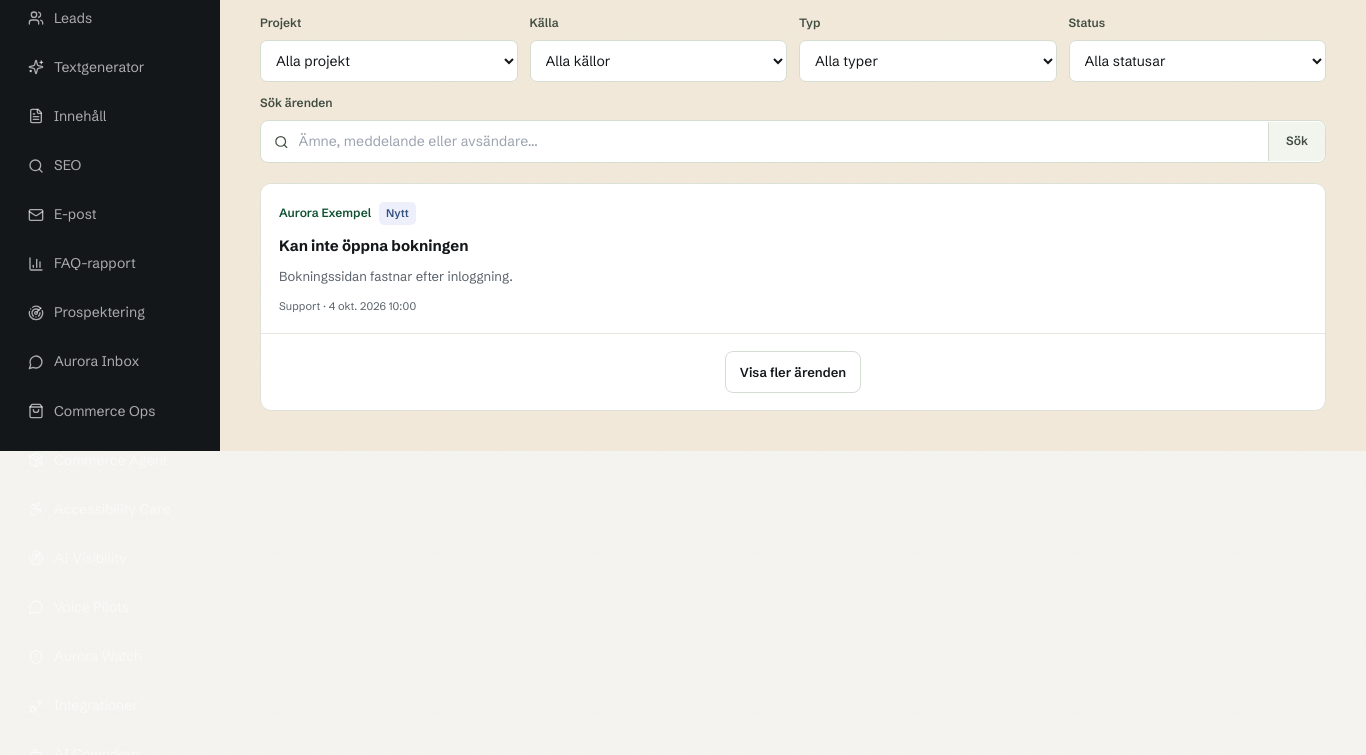
Test: central support workspace › loads the next server page without duplicating existing cases
This screenshot has width=1366, height=755.
(page scrolled)
Click the button "Visa fler ärenden" at x=793, y=372, box [725,351,861,393]
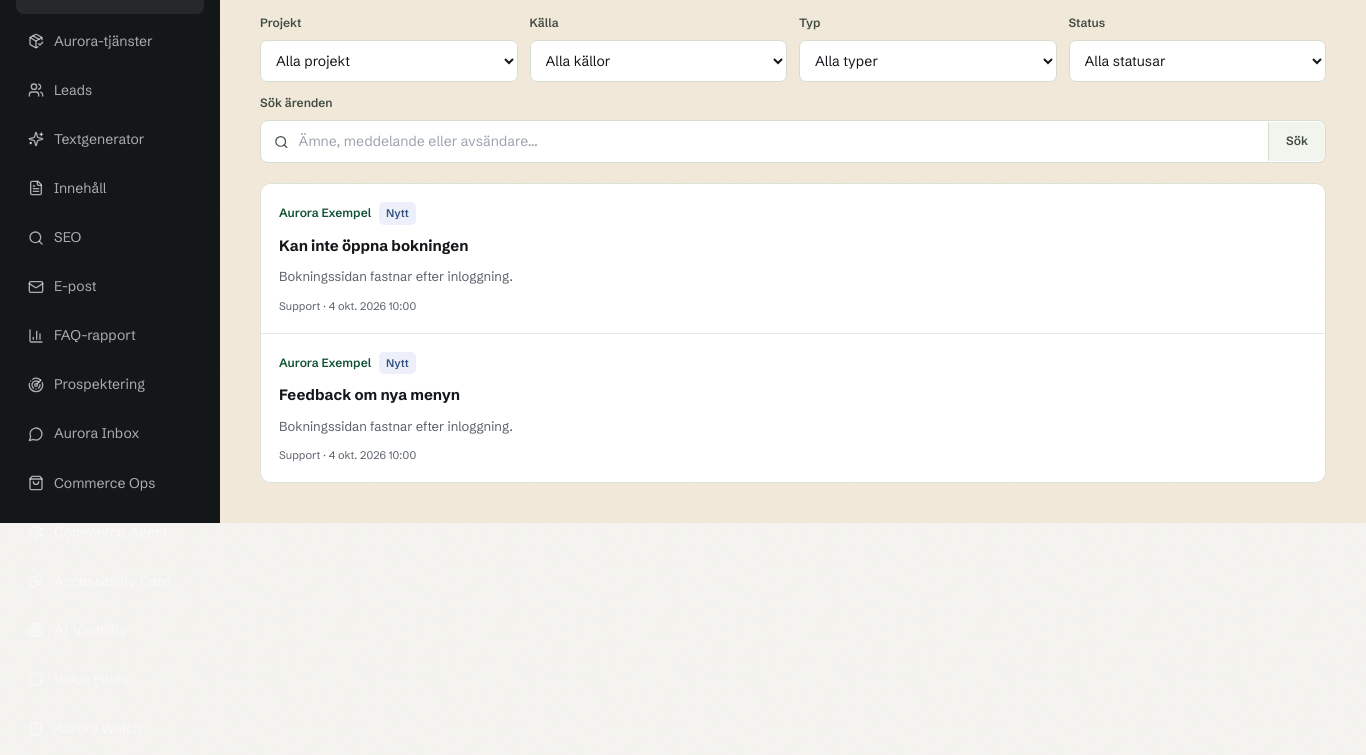
Expected: the text "Kan inte öppna bokningen" is shown once, [279,234,468,258]
Expected: the text "Feedback om nya menyn" is shown, [279,384,460,407]
